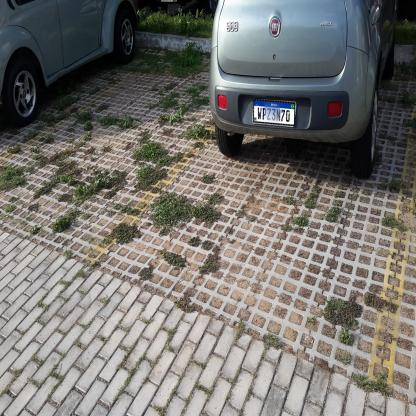PlacaM: (253, 99, 295, 126)
